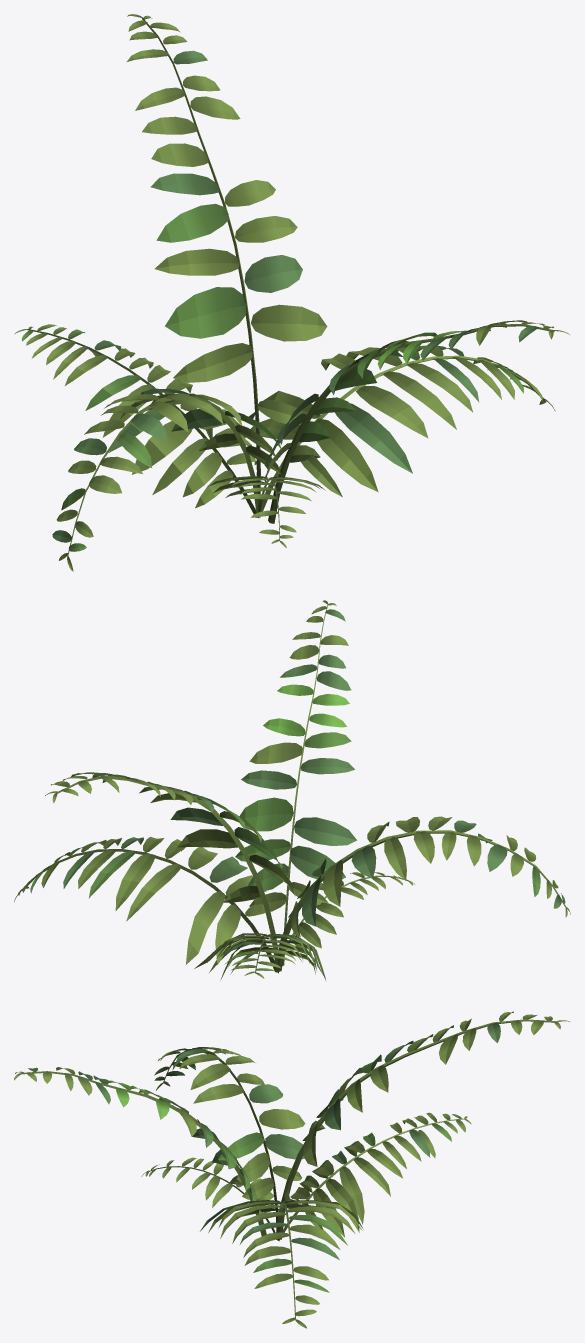
The model's file is Jungle_Fern_C.fbx.
The picture shows the model from 3 angles, top to bottom: view 1: azimuth 30°, elevation 25°; view 2: azimuth 150°, elevation 25°; view 3: azimuth 270°, elevation 25°; orthographic projection. The views are drawn at different scales.
Parts seen in each view (by area): view 1: Jungle_Fern_C; view 2: Jungle_Fern_C; view 3: Jungle_Fern_C.
Part boxes in pixels (box(x1,y1,x2,y2)): Jungle_Fern_C: box(14, 14, 569, 571); Jungle_Fern_C: box(14, 600, 570, 981); Jungle_Fern_C: box(14, 1011, 569, 1328).
Bounding box in the file's own units: 3.66 × 2.07 × 4.23.
1 material, 1 textured.
